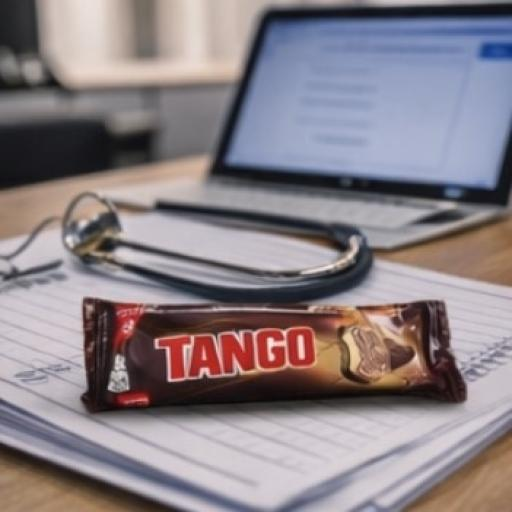tango: (68, 234, 488, 435)
